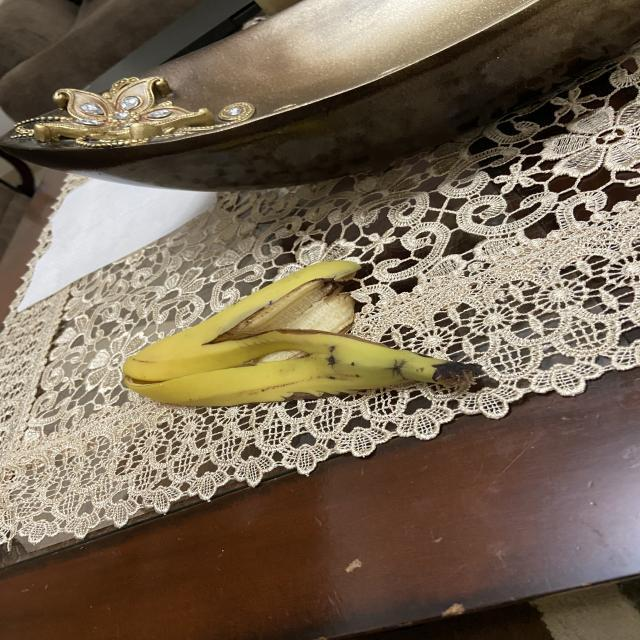banana-peel: (120, 258, 478, 408)
